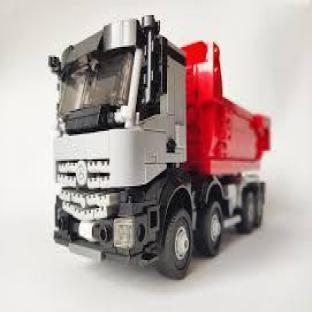Vehicle: (47, 24, 293, 272)
